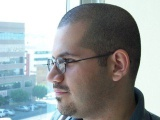male: (43, 4, 146, 116)
